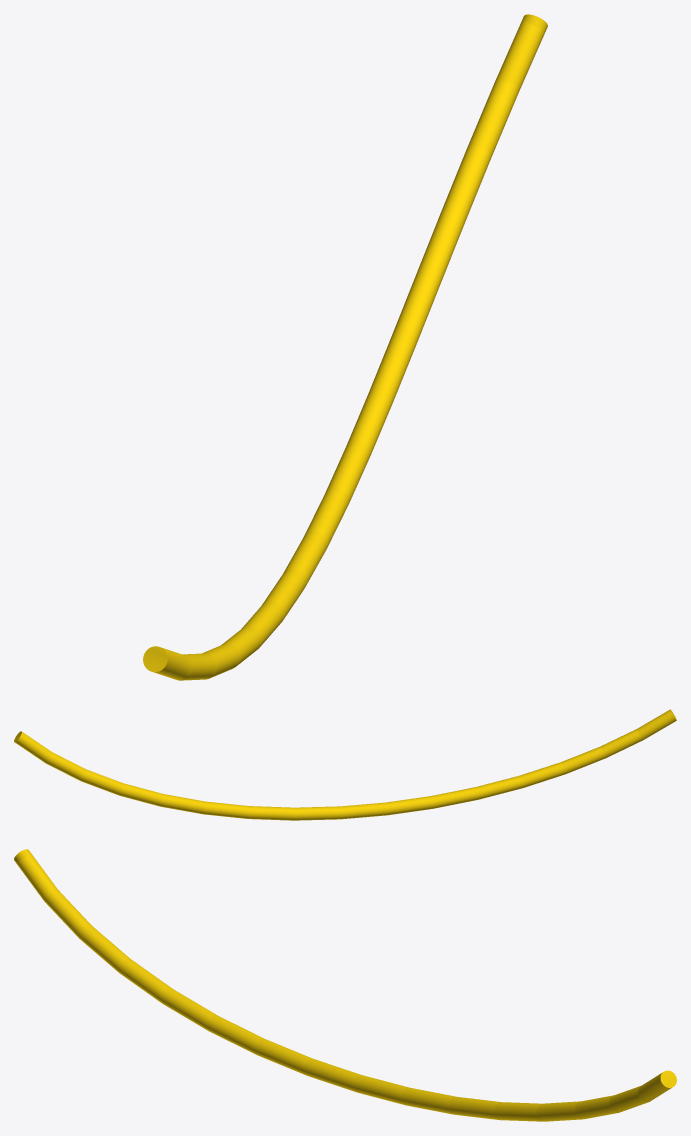
The model's file is Event_421556567_track_18.fbx.
The picture shows the model from 3 angles, top to bottom: view 1: azimuth 30°, elevation 25°; view 2: azimuth 150°, elevation 25°; view 3: azimuth 270°, elevation 25°; orthographic projection. The views are drawn at different scales.
Visible parts, largest first — view 1: Model; view 2: Model; view 3: Model.
Boxes of the visible parts, bbox=[...] form: Model: bbox=[143, 14, 547, 680]; Model: bbox=[14, 709, 676, 820]; Model: bbox=[14, 849, 676, 1121].
Size of the model in its own units: 1.52 by 0.4008 by 1.46.
